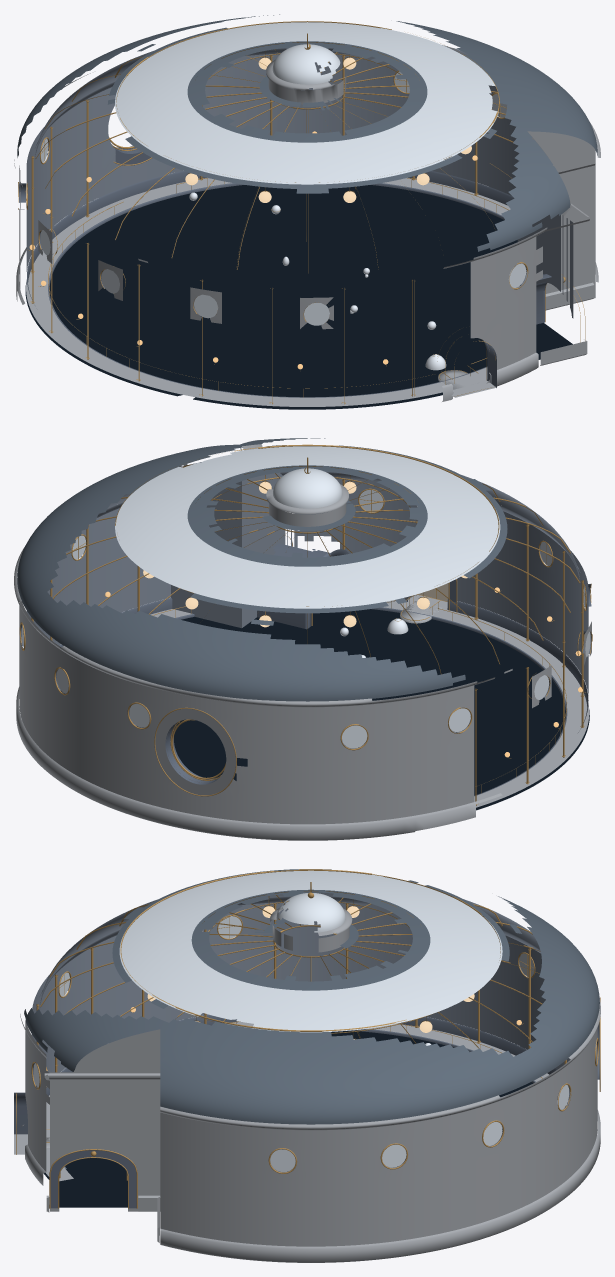
The model's file is platform.glb.
3 views of the same model, one above another, from view 1: azimuth 30°, elevation 25°; view 2: azimuth 150°, elevation 25°; view 3: azimuth 270°, elevation 25° (orthographic).
Parts seen in each view (by area): view 1: platform.water, platform.dome_band_out, platform.plaster, platform.roof, platform.exterior, platform.stone.003, platform.stone.001, platform.brass.001, platform.lantern_glass, platform.windows_out, platform.brass.005, platform.stone.002 (+11 smaller); view 2: platform.exterior, platform.roof, platform.dome_band_out, platform.plaster, platform.water, platform.stone.003, platform.lantern_glass, platform.exterior_brass, platform.brass.002, platform.windows_out, platform.brass.001, platform.plaster_dark.001 (+8 smaller); view 3: platform.exterior, platform.roof, platform.dome_band_out, platform.plaster, platform.water, platform.exterior_brass, platform.plaster_dark.001, platform.lantern_glass, platform.brass.005, platform.windows_out, platform.exterior_dark, platform.brass.001 (+5 smaller).
Part boxes in pixels (box(x1,y1,x2,y2)): platform.water: box(25, 185, 572, 409); platform.dome_band_out: box(115, 22, 498, 184); platform.plaster: box(26, 45, 573, 318); platform.roof: box(17, 14, 597, 251); platform.exterior: box(14, 48, 600, 401); platform.stone.003: box(26, 279, 391, 406); platform.stone.001: box(28, 178, 424, 279); platform.brass.001: box(25, 65, 212, 367); platform.lantern_glass: box(272, 44, 340, 84); platform.windows_out: box(19, 192, 526, 325); platform.brass.005: box(124, 59, 513, 186); platform.stone.002: box(385, 367, 496, 401); platform.exterior: box(14, 440, 591, 840); platform.roof: box(17, 438, 507, 701); platform.dome_band_out: box(115, 446, 500, 608); platform.plaster: box(26, 462, 588, 695); platform.water: box(61, 609, 589, 810); platform.stone.003: box(474, 625, 589, 807); platform.lantern_glass: box(273, 468, 342, 508); platform.exterior_brass: box(19, 444, 592, 796); platform.brass.002: box(373, 483, 586, 727); platform.windows_out: box(21, 625, 590, 748); platform.brass.001: box(307, 558, 584, 805); platform.plaster_dark.001: box(358, 544, 591, 796); platform.exterior: box(20, 907, 600, 1262); platform.roof: box(24, 869, 599, 1124); platform.dome_band_out: box(119, 870, 502, 1032); platform.plaster: box(31, 892, 570, 1085); platform.water: box(44, 1030, 532, 1207); platform.exterior_brass: box(31, 869, 600, 1208); platform.plaster_dark.001: box(46, 957, 599, 1095); platform.lantern_glass: box(276, 893, 345, 932); platform.brass.005: box(46, 895, 412, 1070); platform.windows_out: box(33, 1040, 596, 1171); platform.exterior_dark: box(50, 1149, 137, 1208); platform.brass.001: box(217, 903, 566, 1078).
Size of the model in its own units: 55.66 by 29.64 by 56.39.
